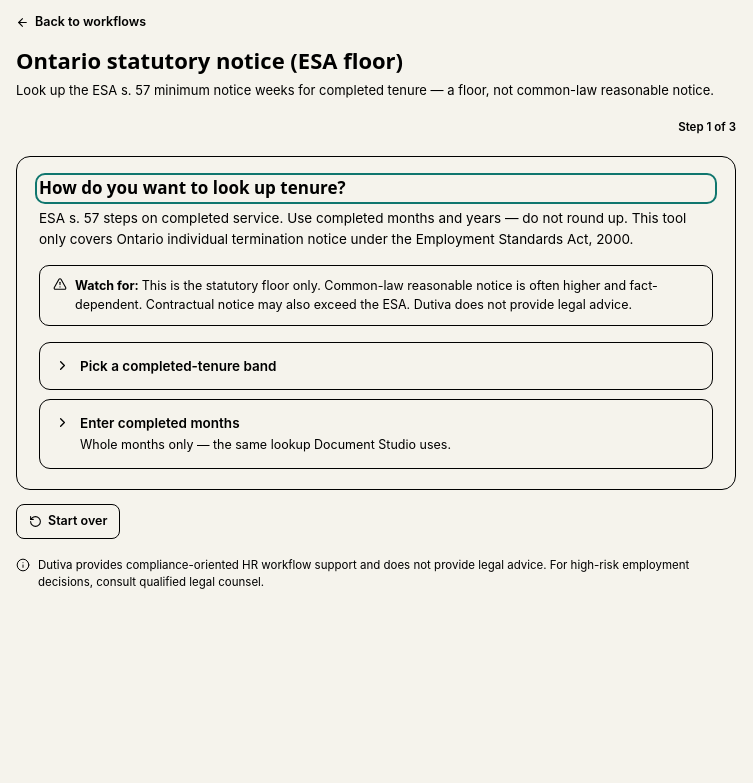
Test: FlowRunner › ends at the ESA floor for a mid tenure band
expect the heading "Ontario statutory notice (ESA floor)" is shown: met, box [16,45,403,75]
Click the button "Pick a completed-tenure band".
click(178, 366)  # box [39,342,713,390]
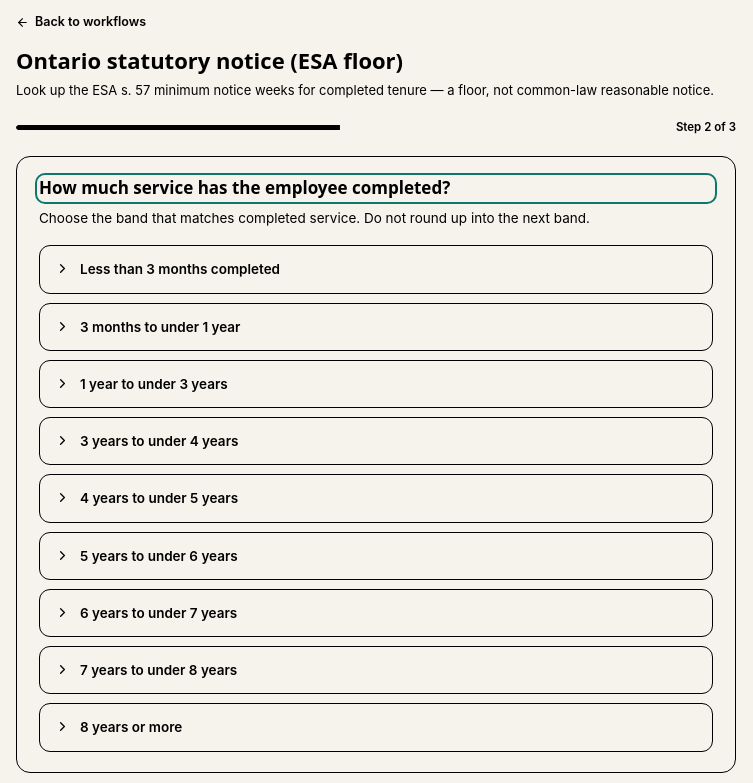
Click the button "1 year to under 3 years".
click(154, 384)  # box [39,360,713,408]
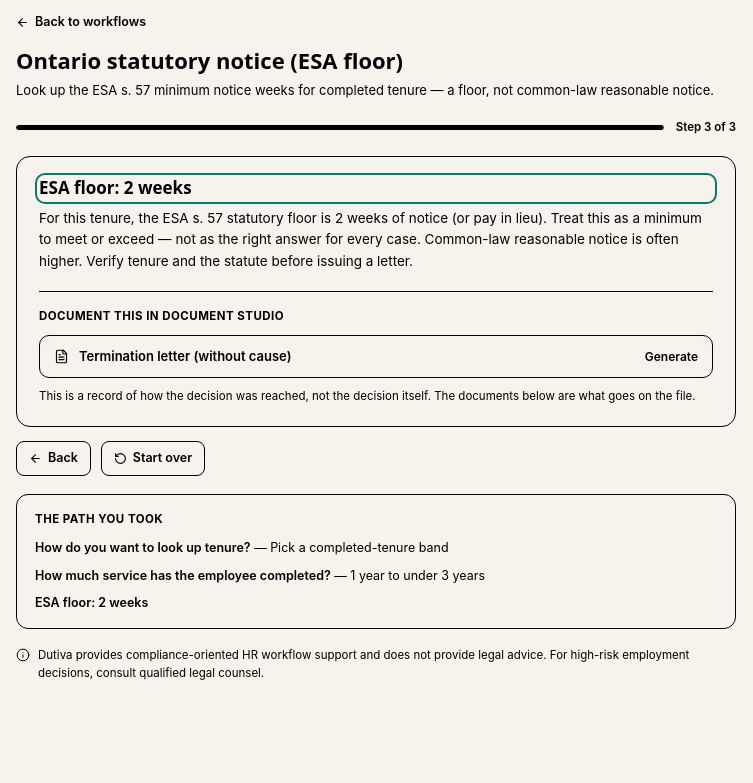
expect the heading "ESA floor: 2 weeks" is shown: met, box [39,176,192,199]
